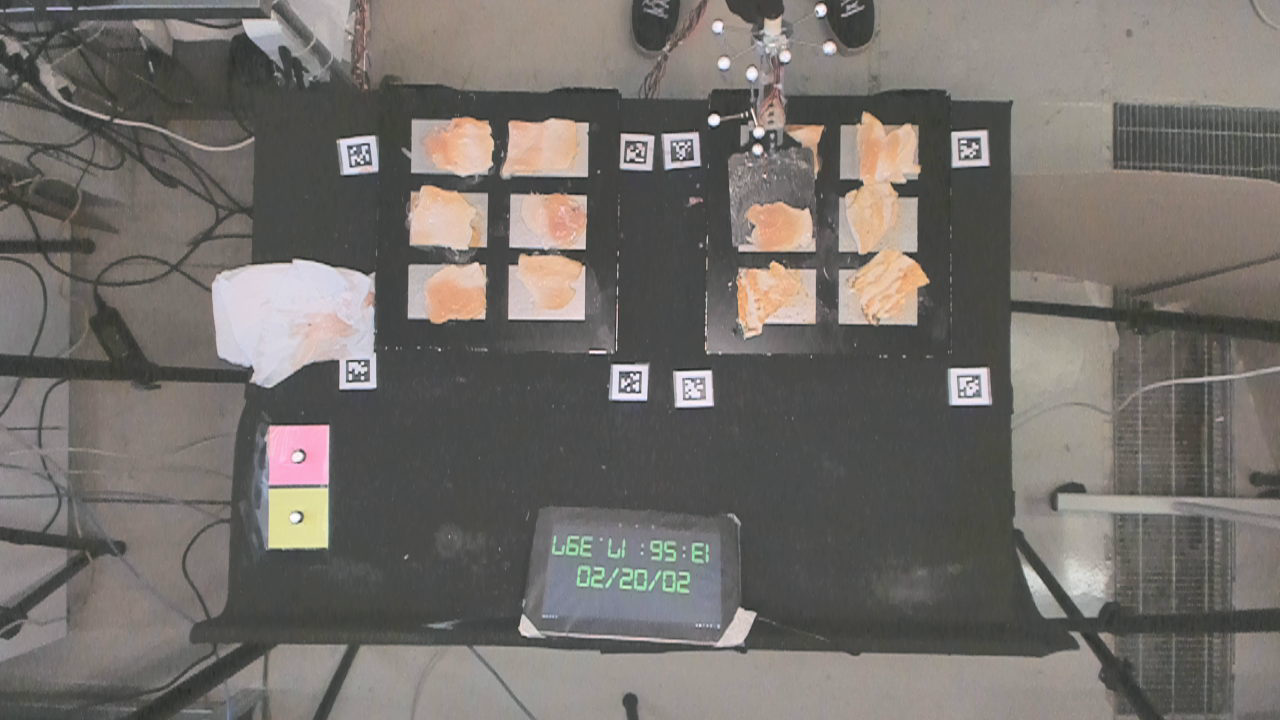chicken: (845, 246, 929, 323), (733, 256, 810, 340), (855, 107, 920, 186), (410, 189, 482, 254), (504, 116, 581, 175), (518, 190, 593, 250), (516, 250, 588, 309), (422, 117, 491, 178), (843, 184, 900, 253), (424, 264, 489, 324), (746, 204, 816, 251)
marker: (266, 425, 331, 486)
